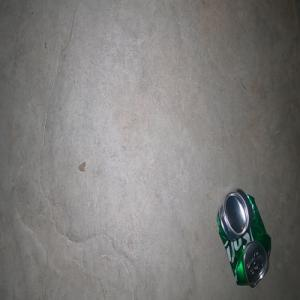SodaCan: (216, 187, 271, 288)
